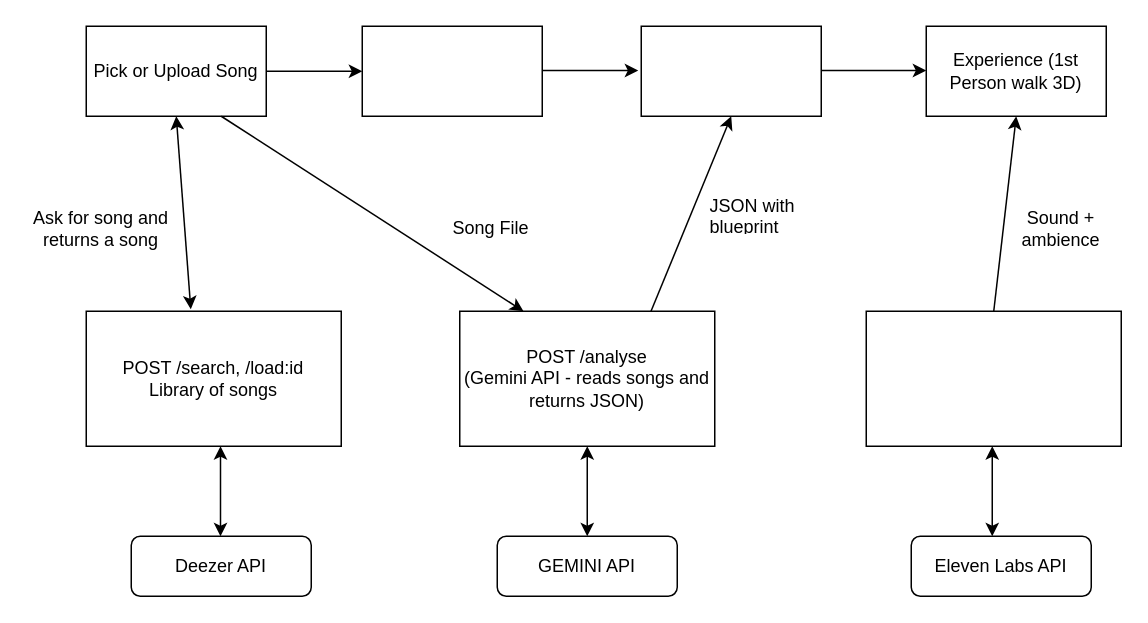
Image size: 1148x623. Some labels were removed from this diagram. The shapes that lost their labels are listed below. From the top down, each one's centre as x and y in pixels, then its label:
the point at 451,70: Audio Analysis (Web Audio API)
the point at 730,70: World Builder (Three.js)
the point at 993,378: POST /narrate, /ambience (ElevenLabs returns audio files)
